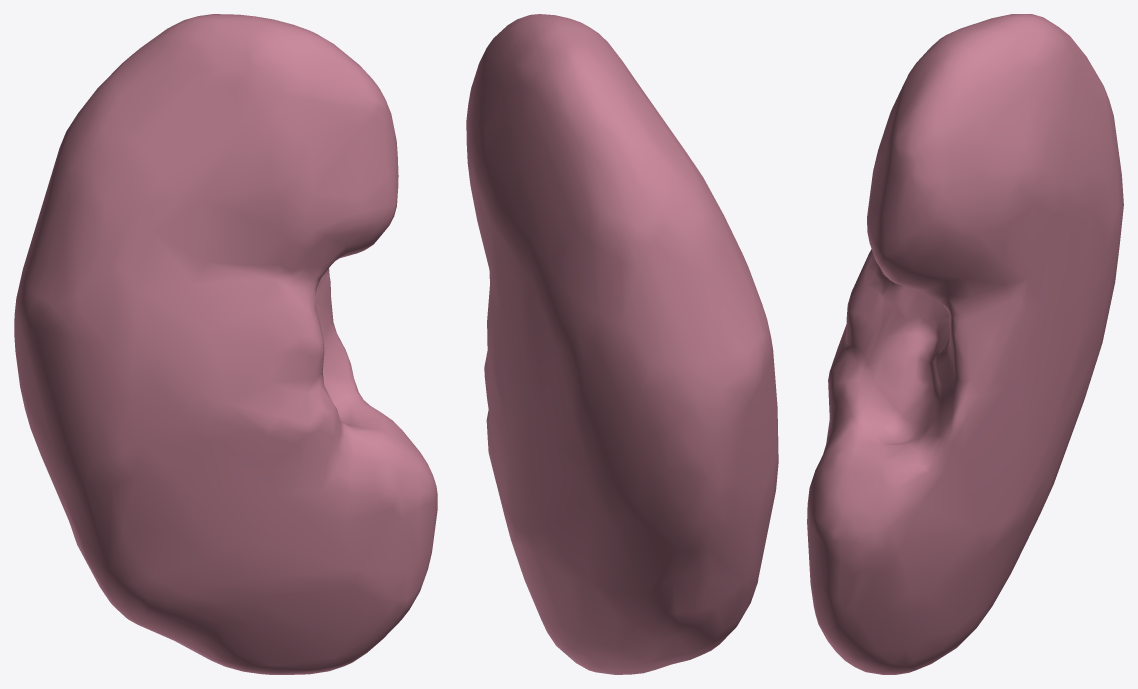
The model's file is rim_direito.glb.
3 renders of one model, left to right at view 1: azimuth 30°, elevation 25°; view 2: azimuth 150°, elevation 25°; view 3: azimuth 270°, elevation 25°, orthographic. The views are drawn at different scales.
Visible parts, largest first — view 1: rim_direito; view 2: rim_direito; view 3: rim_direito.
Boxes of the visible parts, x1,y1,x2,y2 form: rim_direito: (14, 14, 437, 674); rim_direito: (466, 14, 778, 674); rim_direito: (807, 14, 1123, 674).
Size of the model in its own units: 0.0571 by 0.1044 by 0.0472.
